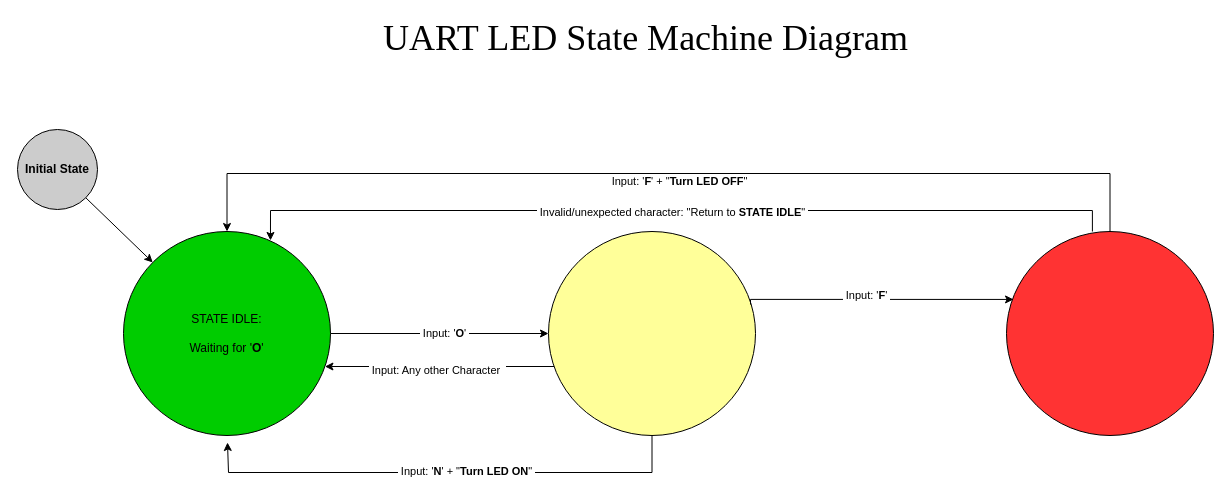
This 1231x498 diagram has some shape labels left out. Here are the shapes that lost their labels. From the top down, the centre of each, then its label:
(x=652, y=333): STATE_O: Received 'O', waiting for 'N' or 'F'
(x=1110, y=333): STATE_F: Received ' F ', Waiting for next ' F '
